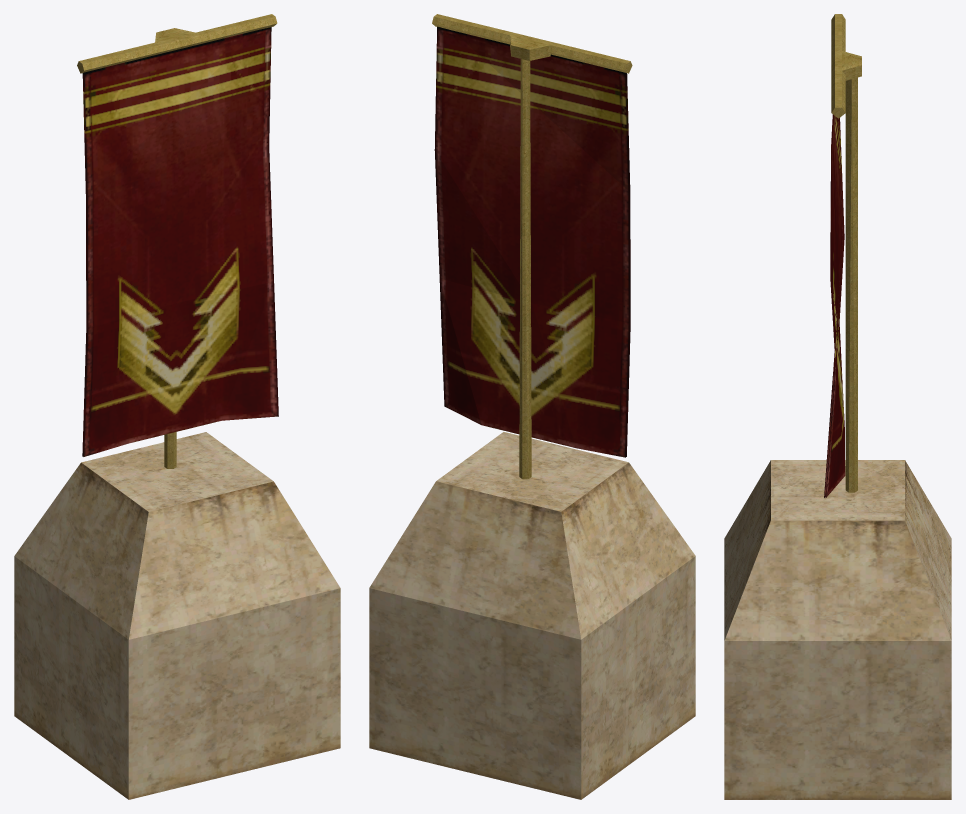
Rendered from thm_tato_guild_banner_freestand_s01_l1.fbx.
3 views of the same model, side by side, from view 1: azimuth 30°, elevation 25°; view 2: azimuth 150°, elevation 25°; view 3: azimuth 270°, elevation 25° (orthographic).
Visible parts, largest first — view 1: mesh_node; view 2: mesh_node; view 3: mesh_node.
Part boxes in pixels (x1,y1,x2,y2): mesh_node: [14, 14, 340, 799]; mesh_node: [369, 14, 695, 799]; mesh_node: [724, 14, 951, 799].
Size of the model in its own units: 3.21 by 10.02 by 3.
